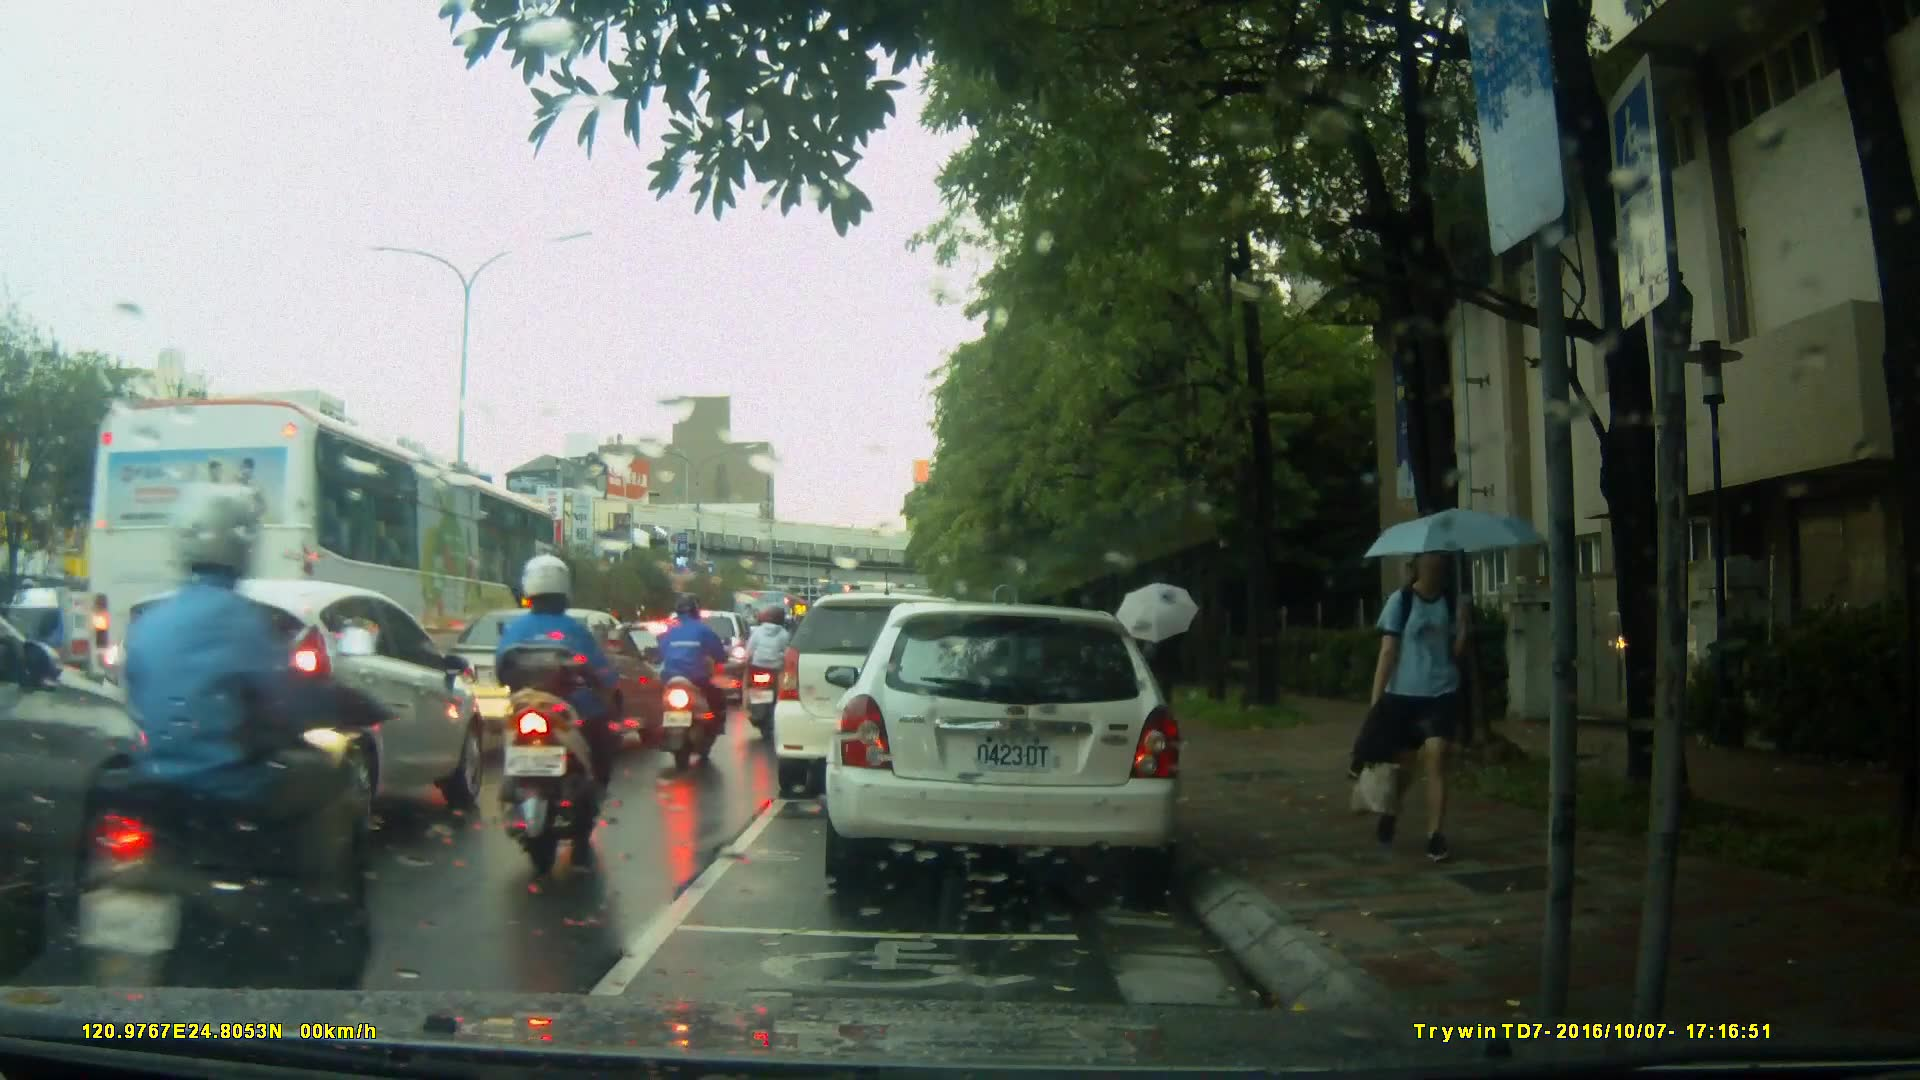pedestrian: (1348, 531, 1501, 866)
rider: (83, 478, 376, 1074), (491, 556, 630, 865), (652, 597, 731, 771), (749, 599, 807, 744)
vehicle: (85, 392, 566, 735), (835, 594, 1194, 898), (97, 576, 486, 846), (776, 590, 1026, 784), (421, 605, 665, 750), (1, 586, 155, 697), (610, 619, 721, 716)
